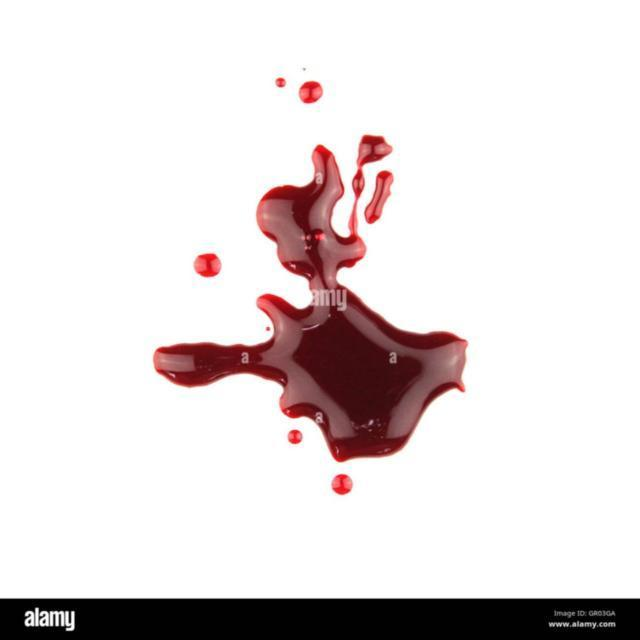flood: (145, 289, 488, 460), (248, 126, 405, 290)
